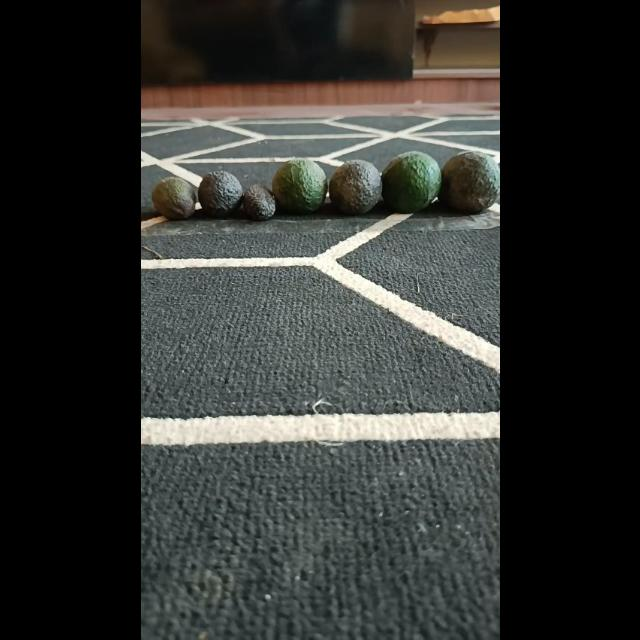Primera: (380, 151, 442, 213), (438, 150, 499, 213), (270, 158, 328, 214), (327, 159, 383, 215)
Segunda: (195, 170, 242, 218), (150, 176, 197, 220)
Tercera: (239, 182, 275, 222)
